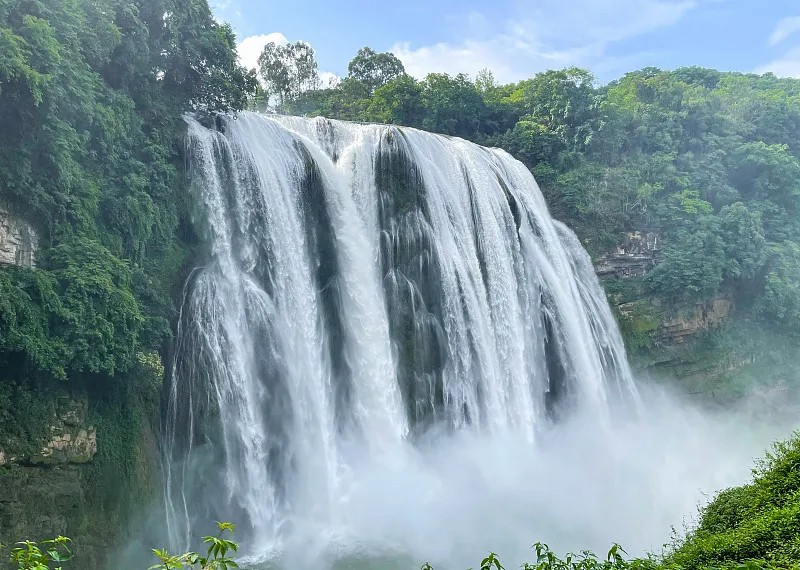Huangguoshu: (179, 108, 644, 540)
